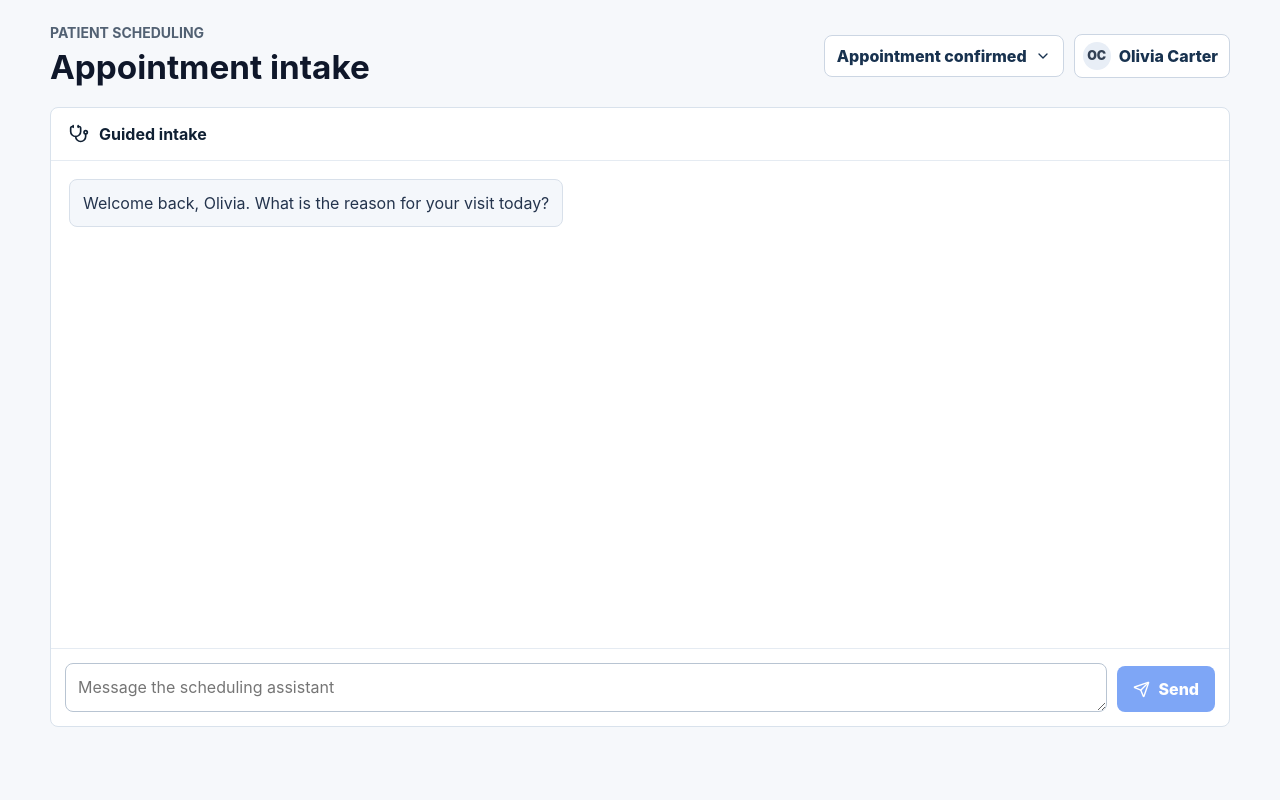
Test: shows a backend-derived patient account menu separate from appointment details
What coordinates should you click on to do the following:
click the button "OC Olivia Carter"
I would click on:
 (1152, 56)
Its box is x1=1074 y1=34 x2=1230 y2=78.
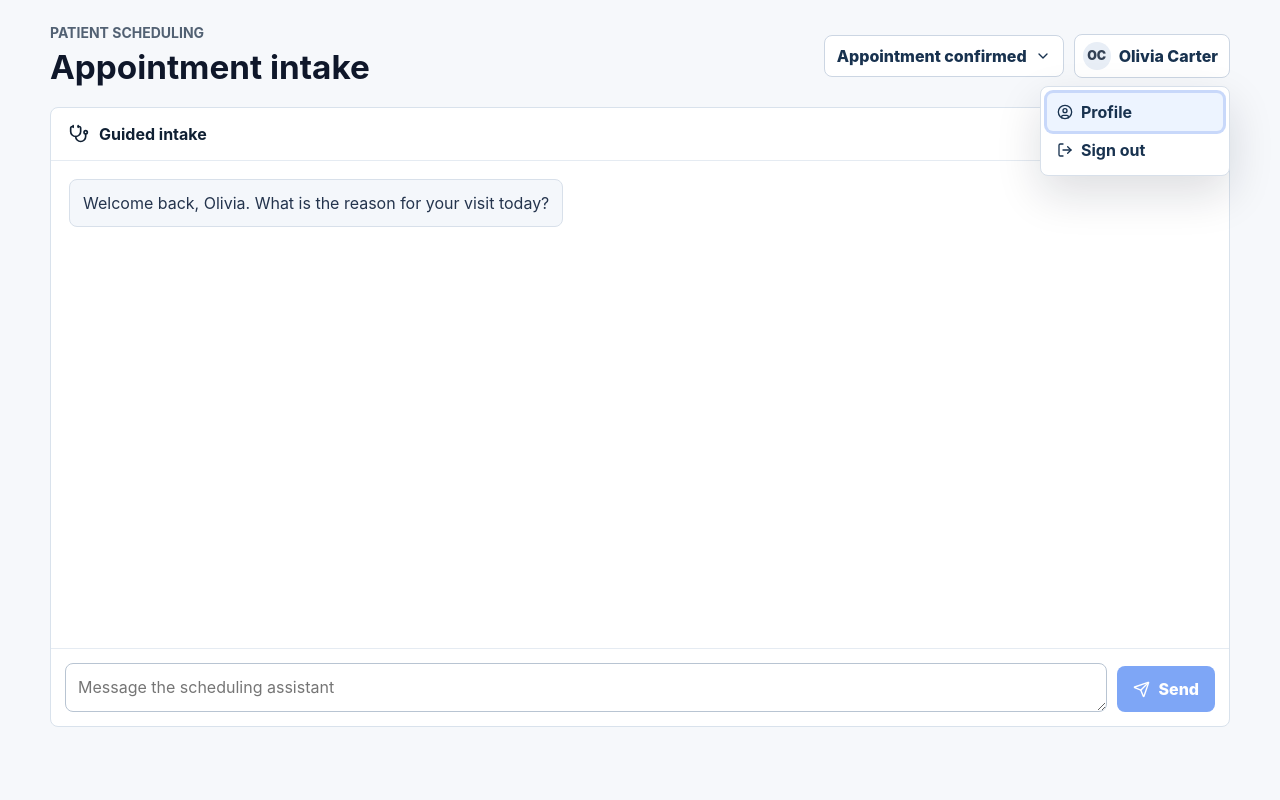
expect the menu named "patient account" is shown: met, box x1=1040 y1=86 x2=1230 y2=176
expect the menu item "Profile" is shown: met, box x1=1047 y1=92 x2=1223 y2=130
expect the menu item "Sign out" is shown: met, box x1=1047 y1=130 x2=1223 y2=168
